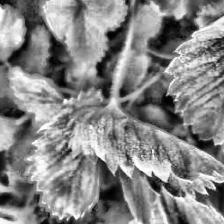Powdery Mildew Leaf: (63, 98, 224, 200)
